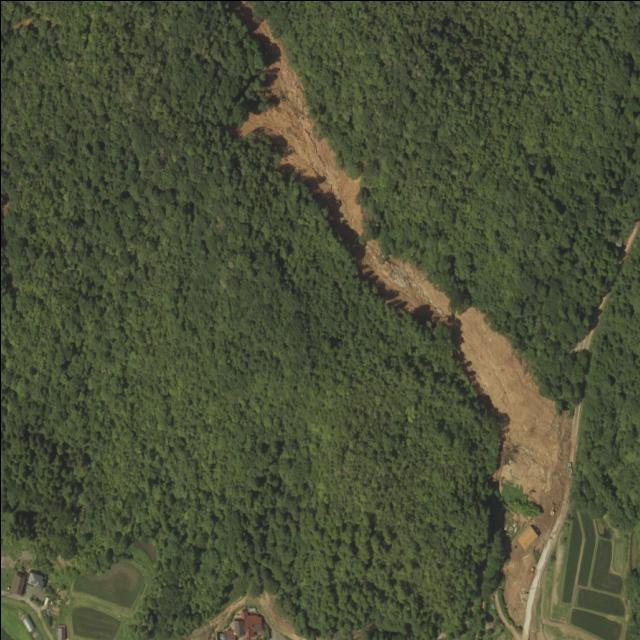landslide: (359, 239, 580, 625), (238, 19, 362, 234)
